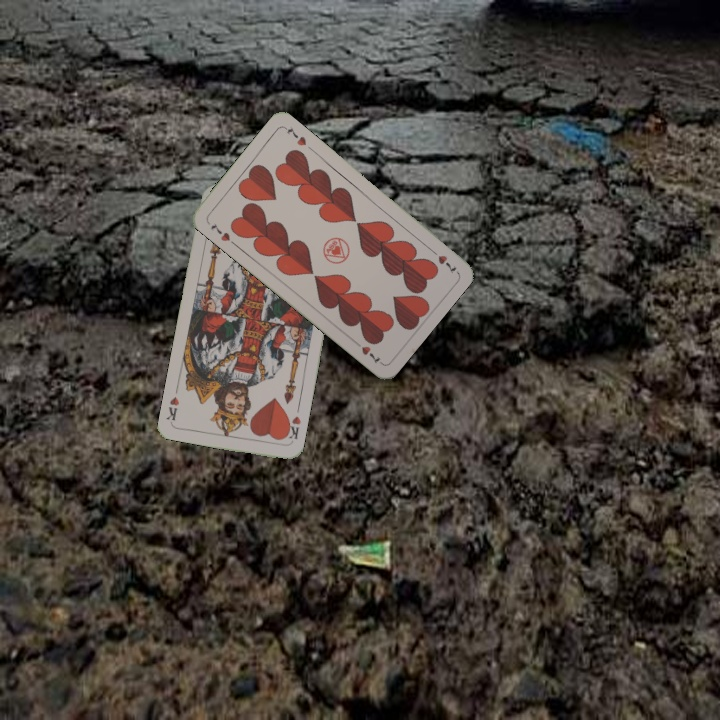H7: (426, 244, 459, 276), (206, 219, 233, 244)
HK: (281, 412, 303, 446)
